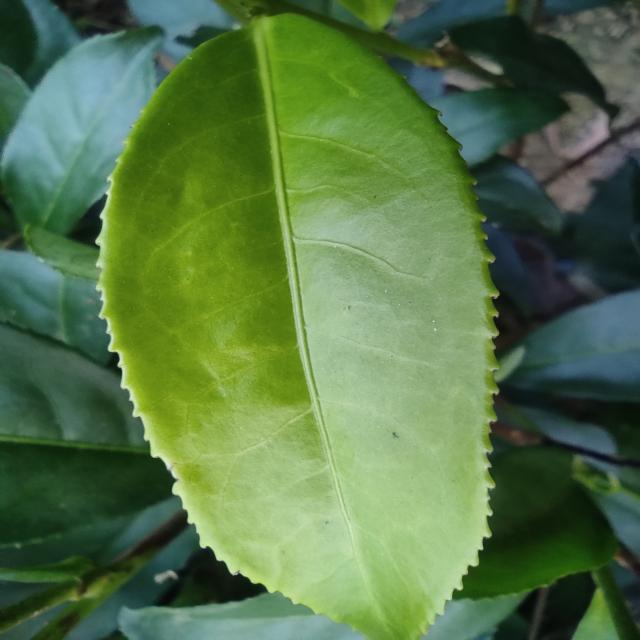Category C(4-7 days): (70, 0, 542, 640)
